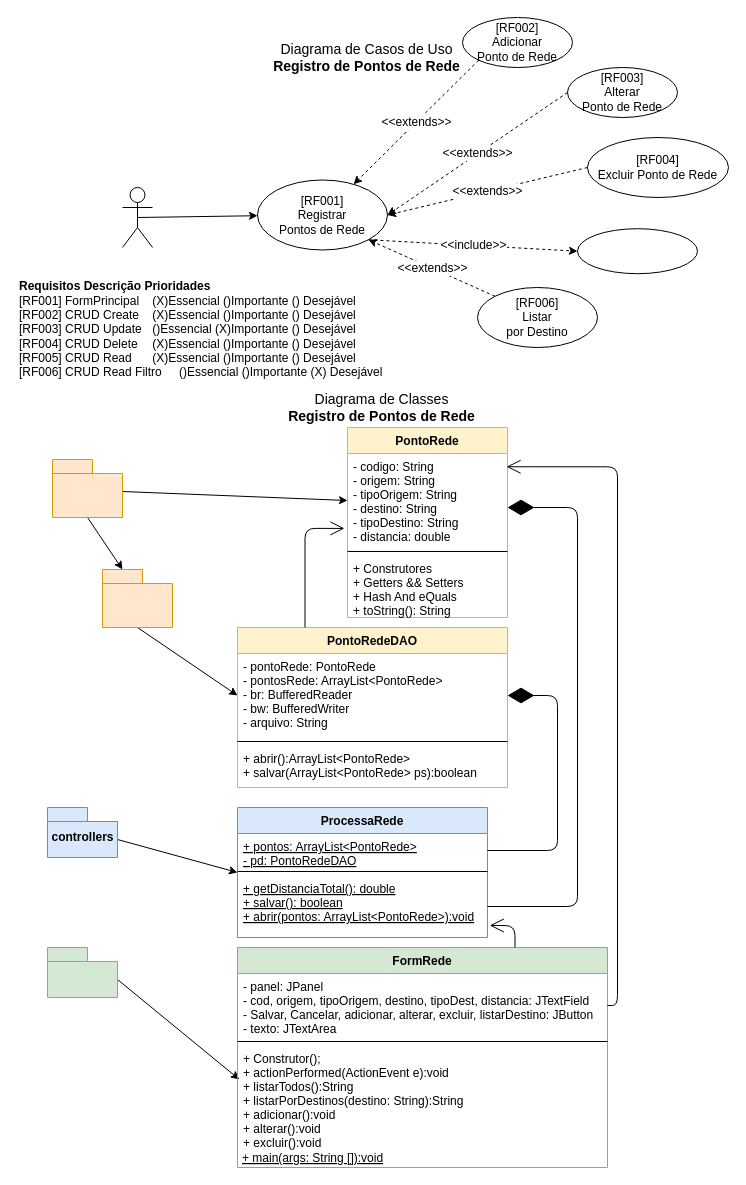
Image size: 746x1185. Some labels were removed from this diagram. The shapes that lost their labels are listed below. From the top down, each one's box as (x1, y1, x2, y2) in pixels, then its label:
(122, 186, 152, 248): Técnico de Redes
(576, 228, 698, 274): [RF005] Listar Todos
(52, 458, 122, 518): models
(102, 568, 172, 628): dao
(46, 946, 118, 998): viewers
